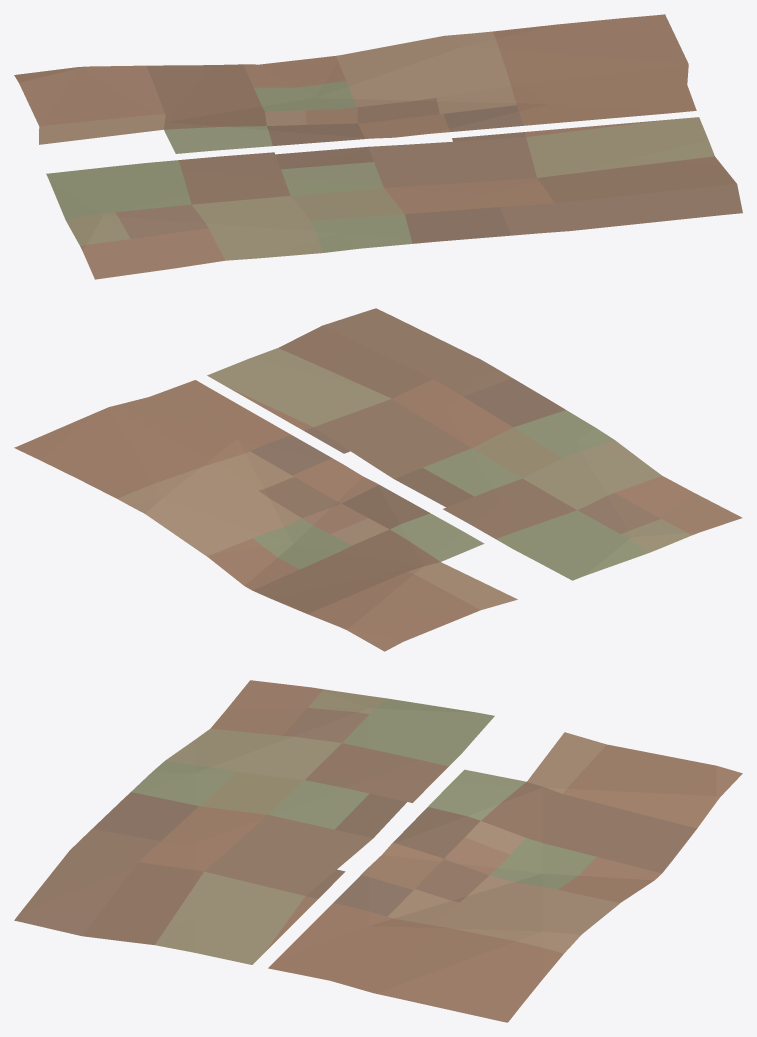
Rendered from farm_-34_-25_soil.glb.
The picture shows the model from 3 angles, top to bottom: view 1: azimuth 30°, elevation 25°; view 2: azimuth 150°, elevation 25°; view 3: azimuth 270°, elevation 25°; orthographic projection. The views are drawn at different scales.
Parts seen in each view (by area): view 1: geometry_0; view 2: geometry_0; view 3: geometry_0.
Part boxes in pixels (<box>): geometry_0: <box>14,14,742,279</box>; geometry_0: <box>14,308,742,651</box>; geometry_0: <box>14,680,742,1022</box>.
Size of the model in its own units: 375 by 21.6 by 335.
